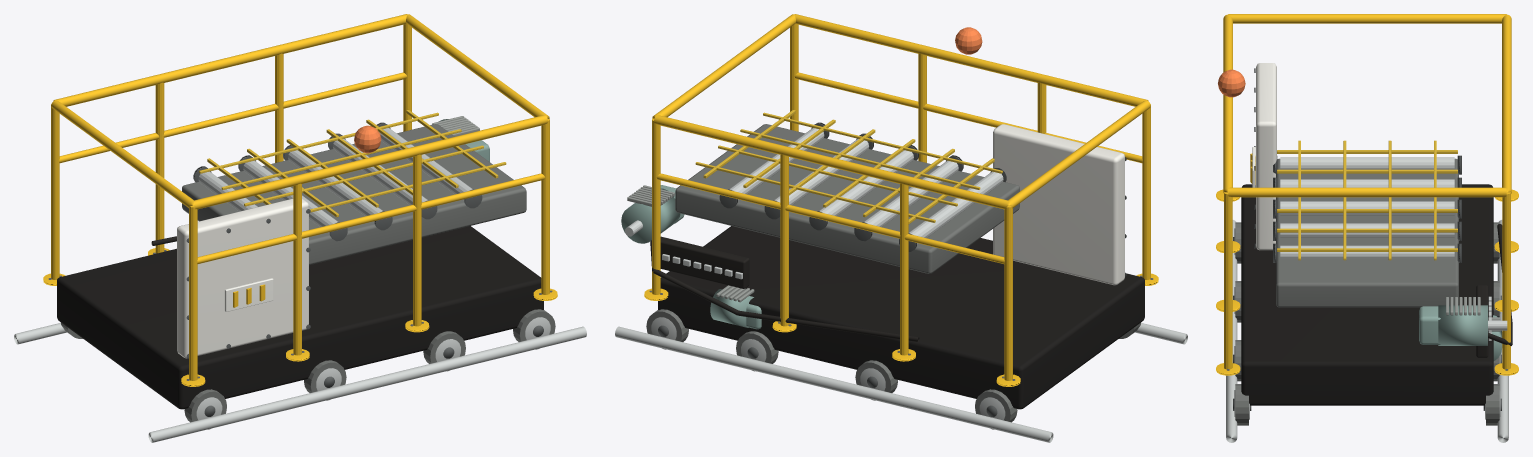
File: photo_transfer_cart_v2.glb
3 views of the same model, side by side, from view 1: azimuth 30°, elevation 25°; view 2: azimuth 150°, elevation 25°; view 3: azimuth 270°, elevation 25° (orthographic).
Parts seen in each view (by area): view 1: cart_black_base_frame, cart_light_front_panel, cart_roller_bed_frame, cart_track_reference_-0.8, cart_yellow_top_guard_-0.8, cart_yellow_top_guard_0.8, cart_yellow_mid_guard_-0.8, cart_yellow_mid_guard_0.8, cart_yellow_front_guard_top, cart_yellow_rear_guard_top, cart_yellow_guard_post_-1.2_-0.8, cart_yellow_guard_post_1.2_-0.8 (+22 smaller); view 2: cart_black_base_frame, cart_roller_bed_frame, cart_light_front_panel, cart_track_reference_0.8, cart_yellow_top_guard_0.8, cart_yellow_top_guard_-0.8, cart_v2_drive_chain_guard, cart_yellow_mid_guard_0.8, cart_yellow_mid_guard_-0.8, cart_yellow_front_guard_top, cart_yellow_rear_guard_top, cart_yellow_guard_post_-1.2_0.8 (+24 smaller); view 3: cart_black_base_frame, cart_roller_bed_frame, cart_light_front_panel, cart_yellow_rear_guard_top, cart_yellow_front_guard_top, cart_live_roller_01, cart_live_roller_04, cart_live_roller_05, cart_side_drive_motor_motor_body, cart_live_roller_03, cart_yellow_top_guard_0.8, cart_yellow_guard_post_1.2_-0.8 (+19 smaller).
Boxes of the visible parts, x1=… form: cart_black_base_frame: x1=57, y1=226, x2=543, y2=409; cart_light_front_panel: x1=177, y1=198, x2=308, y2=358; cart_roller_bed_frame: x1=182, y1=124, x2=526, y2=265; cart_track_reference_-0.8: x1=148, y1=326, x2=586, y2=442; cart_yellow_top_guard_-0.8: x1=193, y1=115, x2=547, y2=209; cart_yellow_top_guard_0.8: x1=53, y1=14, x2=407, y2=106; cart_yellow_mid_guard_-0.8: x1=197, y1=173, x2=545, y2=263; cart_yellow_mid_guard_0.8: x1=59, y1=72, x2=407, y2=163; cart_yellow_front_guard_top: x1=51, y1=100, x2=193, y2=208; cart_yellow_rear_guard_top: x1=406, y1=14, x2=549, y2=118; cart_yellow_guard_post_-1.2_-0.8: x1=189, y1=205, x2=197, y2=380; cart_yellow_guard_post_1.2_-0.8: x1=541, y1=119, x2=549, y2=294; cart_black_base_frame: x1=658, y1=226, x2=1144, y2=409; cart_roller_bed_frame: x1=675, y1=124, x2=1019, y2=273; cart_light_front_panel: x1=993, y1=124, x2=1124, y2=285; cart_track_reference_0.8: x1=615, y1=326, x2=1053, y2=442; cart_yellow_top_guard_0.8: x1=654, y1=115, x2=1008, y2=209; cart_yellow_top_guard_-0.8: x1=794, y1=14, x2=1148, y2=106; cart_v2_drive_chain_guard: x1=660, y1=236, x2=749, y2=288; cart_yellow_mid_guard_0.8: x1=656, y1=173, x2=1004, y2=263; cart_yellow_mid_guard_-0.8: x1=794, y1=72, x2=1142, y2=163; cart_yellow_front_guard_top: x1=1008, y1=100, x2=1150, y2=208; cart_yellow_rear_guard_top: x1=652, y1=14, x2=795, y2=118; cart_yellow_guard_post_-1.2_0.8: x1=1004, y1=205, x2=1012, y2=380; cart_black_base_frame: x1=1241, y1=184, x2=1493, y2=405; cart_roller_bed_frame: x1=1276, y1=158, x2=1458, y2=307; cart_light_front_panel: x1=1256, y1=63, x2=1276, y2=250; cart_yellow_rear_guard_top: x1=1228, y1=187, x2=1506, y2=197; cart_yellow_front_guard_top: x1=1228, y1=14, x2=1506, y2=23; cart_live_roller_01: x1=1280, y1=157, x2=1454, y2=169; cart_live_roller_04: x1=1280, y1=223, x2=1454, y2=237; cart_live_roller_05: x1=1280, y1=245, x2=1454, y2=259; cart_side_drive_motor_motor_body: x1=1438, y1=305, x2=1487, y2=345; cart_live_roller_03: x1=1280, y1=201, x2=1454, y2=215; cart_yellow_top_guard_0.8: x1=1502, y1=14, x2=1511, y2=193; cart_yellow_guard_post_1.2_-0.8: x1=1224, y1=192, x2=1232, y2=369.
Bounding box in the file's own units: 2.93 × 1.7 × 1.74.
